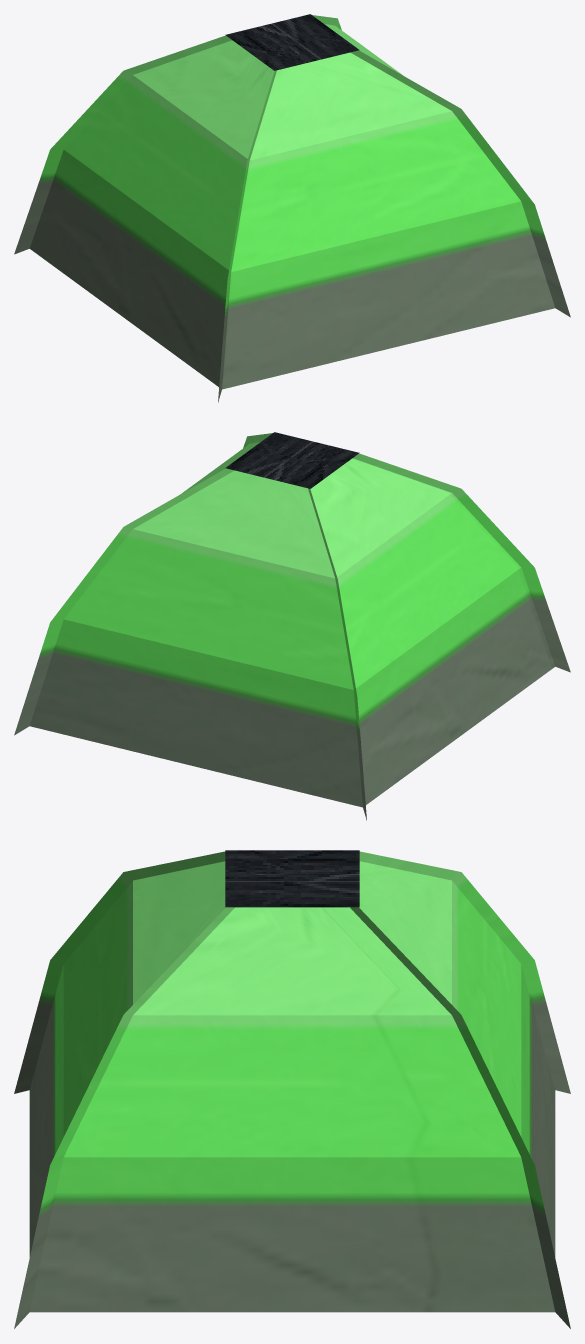
Rendered from tent.fbx.
The picture shows the model from 3 angles, top to bottom: view 1: azimuth 30°, elevation 25°; view 2: azimuth 150°, elevation 25°; view 3: azimuth 270°, elevation 25°; orthographic projection. The views are drawn at different scales.
Visible parts, largest first — view 1: Cube, Plane; view 2: Cube, Plane; view 3: Cube, Plane.
Boxes of the visible parts, <box> form: Cube: <box>14,15,570,402</box>; Plane: <box>225,14,359,70</box>; Cube: <box>14,433,570,820</box>; Plane: <box>225,432,359,488</box>; Cube: <box>14,851,570,1328</box>; Plane: <box>225,850,359,907</box>.
Bounding box in the file's own units: 265 × 183 × 265.
Materials: 2 (2 with a texture image).
